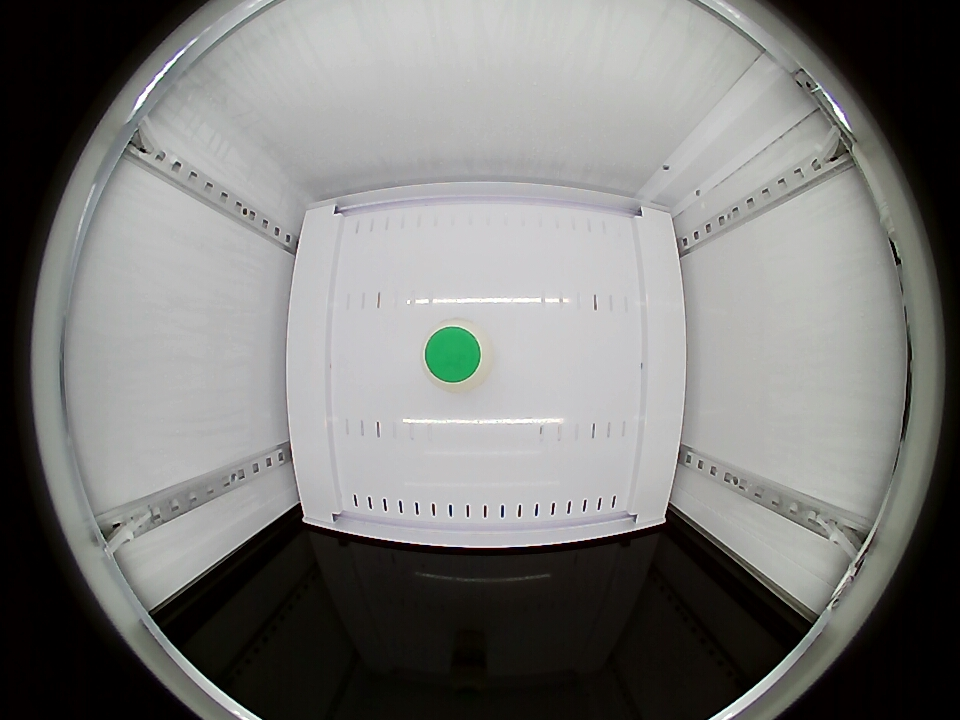liziyuan: (422, 321, 487, 390)
